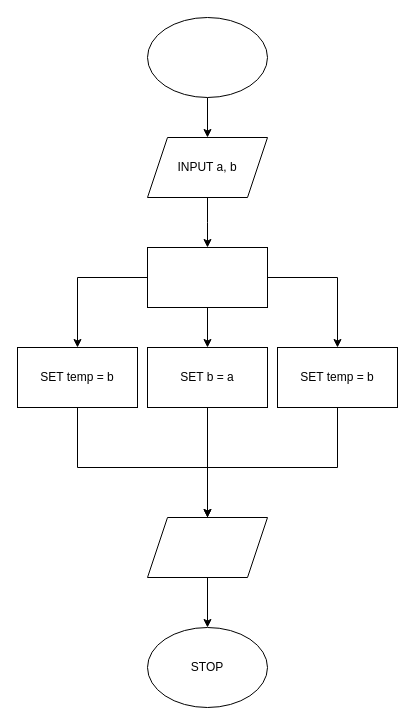
Some shapes in this 415 by 725 pixel diagram are drawn without their labels. The shapes that lost their labels are listed below. From the top down, each one's centre as x and y in pixels, then its label:
[207,57]: START
[207,277]: WHILE b not = 0
[207,547]: PRINT a
